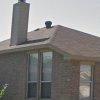Chimney: (5, 1, 35, 48)
